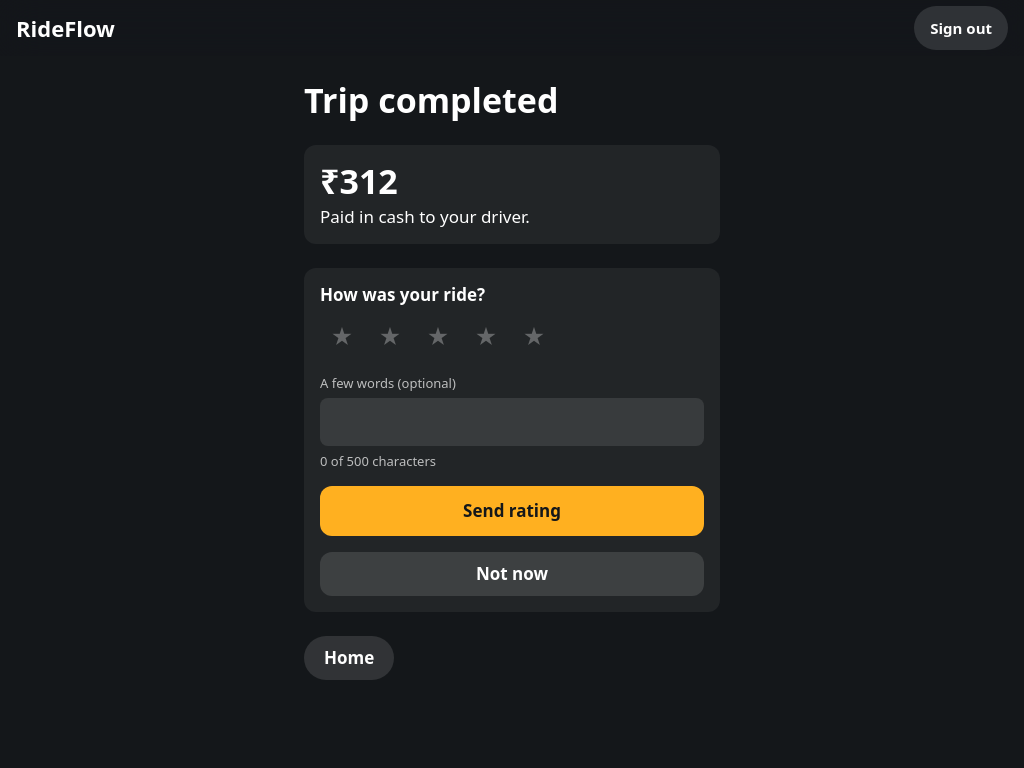
rating the trip › asks for stars before sending
Step 1. Click the button "Send rating" → x=512, y=511, box 320,486 -> 704,536
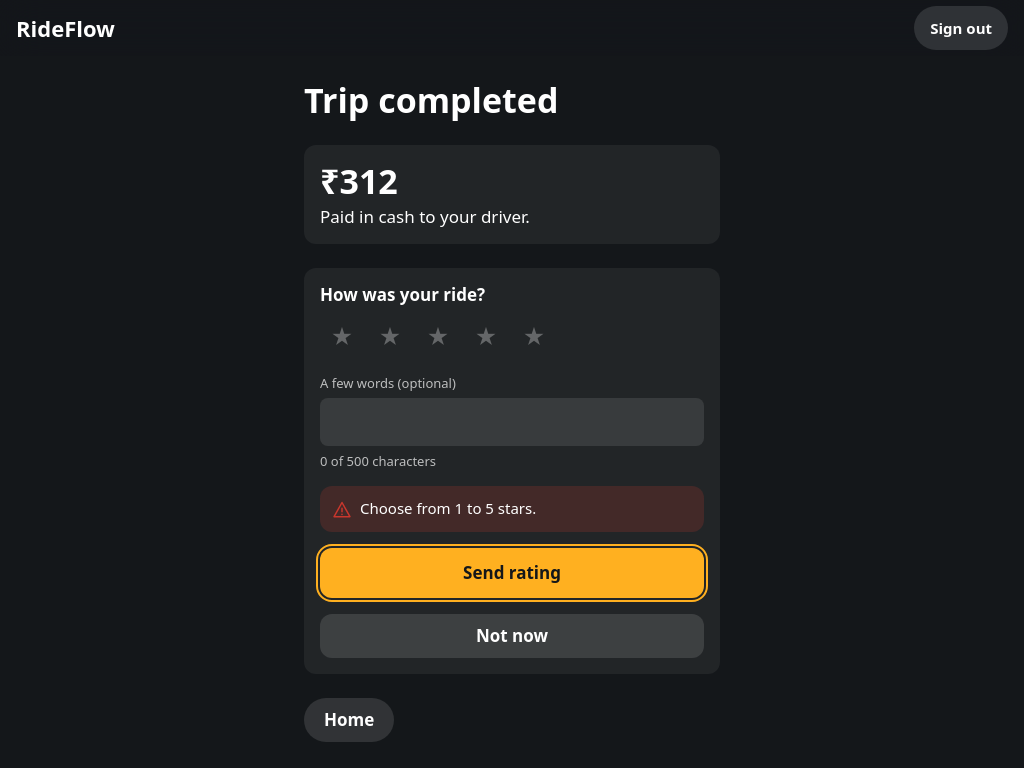
Expected: the text "Choose from 1 to 5 stars." is shown, 360,498 -> 536,518
